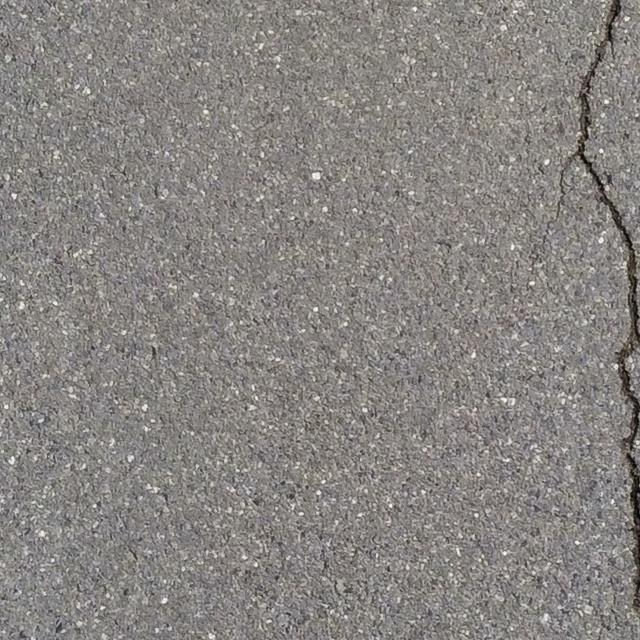LongitudinalCrack: (576, 1, 640, 622)
